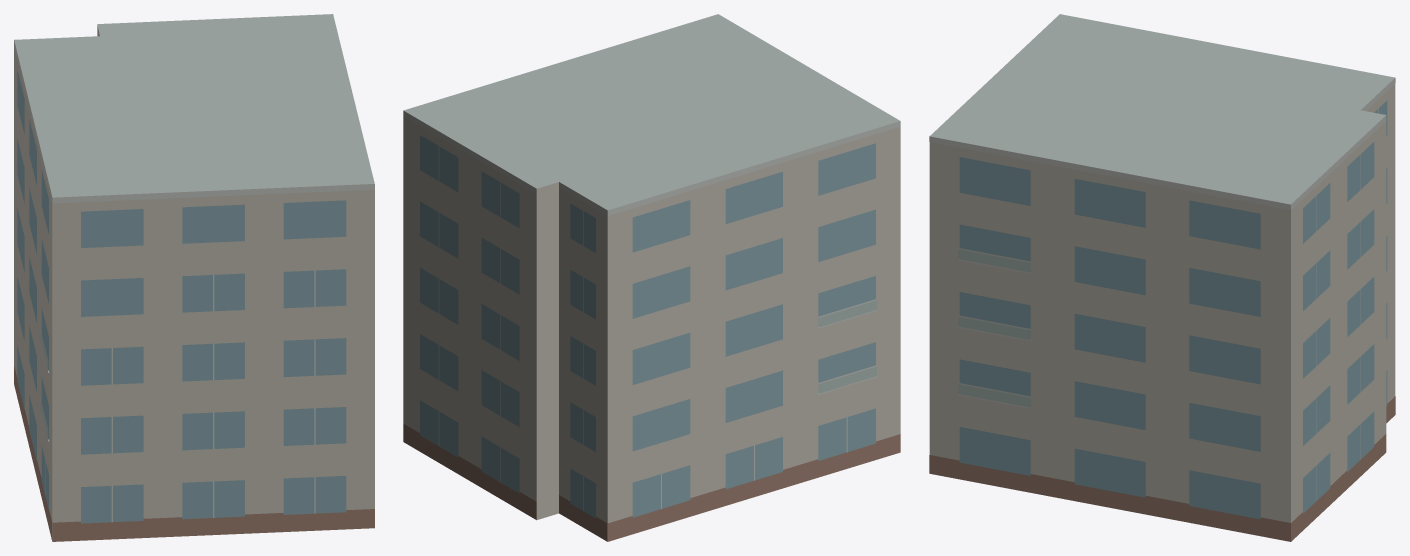
Rendered from survey-upis-32669271.glb.
3 renders of one model, left to right at view 1: azimuth 30°, elevation 25°; view 2: azimuth 150°, elevation 25°; view 3: azimuth 270°, elevation 25°, orthographic. The views are drawn at different scales.
Visible parts, largest first — view 1: survey-upis-32669271.tmp; view 2: survey-upis-32669271.tmp; view 3: survey-upis-32669271.tmp.
Part boxes in pixels (x1,y1,x2,y2): survey-upis-32669271.tmp: (14, 14, 374, 541); survey-upis-32669271.tmp: (403, 14, 900, 541); survey-upis-32669271.tmp: (929, 14, 1395, 541).
Size of the model in its own units: 17.58 by 14.5 by 18.16.
